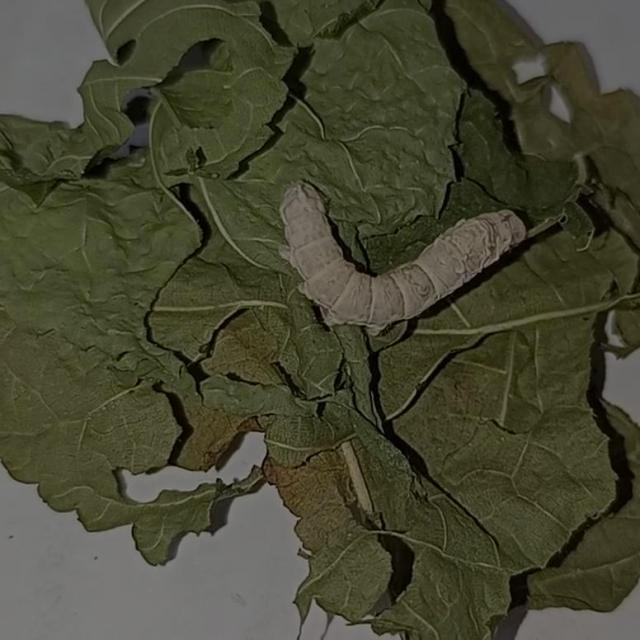Healthy: (242, 121, 573, 365)
